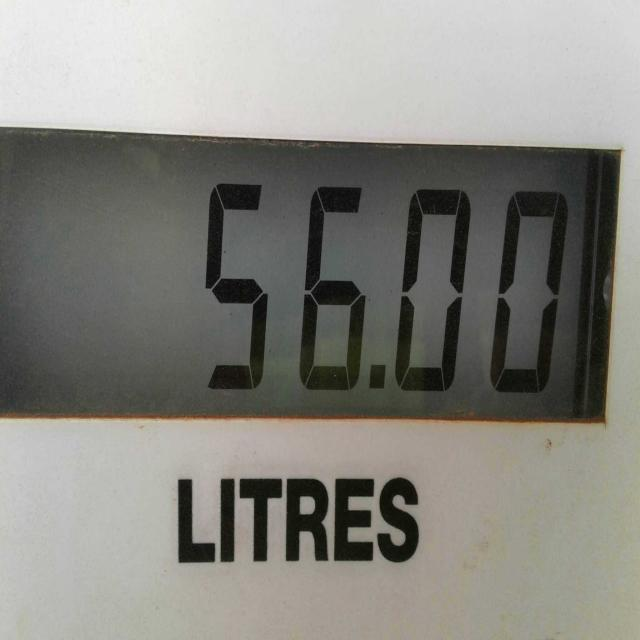.: (366, 357, 389, 412)
0: (489, 186, 567, 396), (392, 189, 466, 409)
5: (205, 184, 272, 394)
6: (304, 188, 369, 388)
